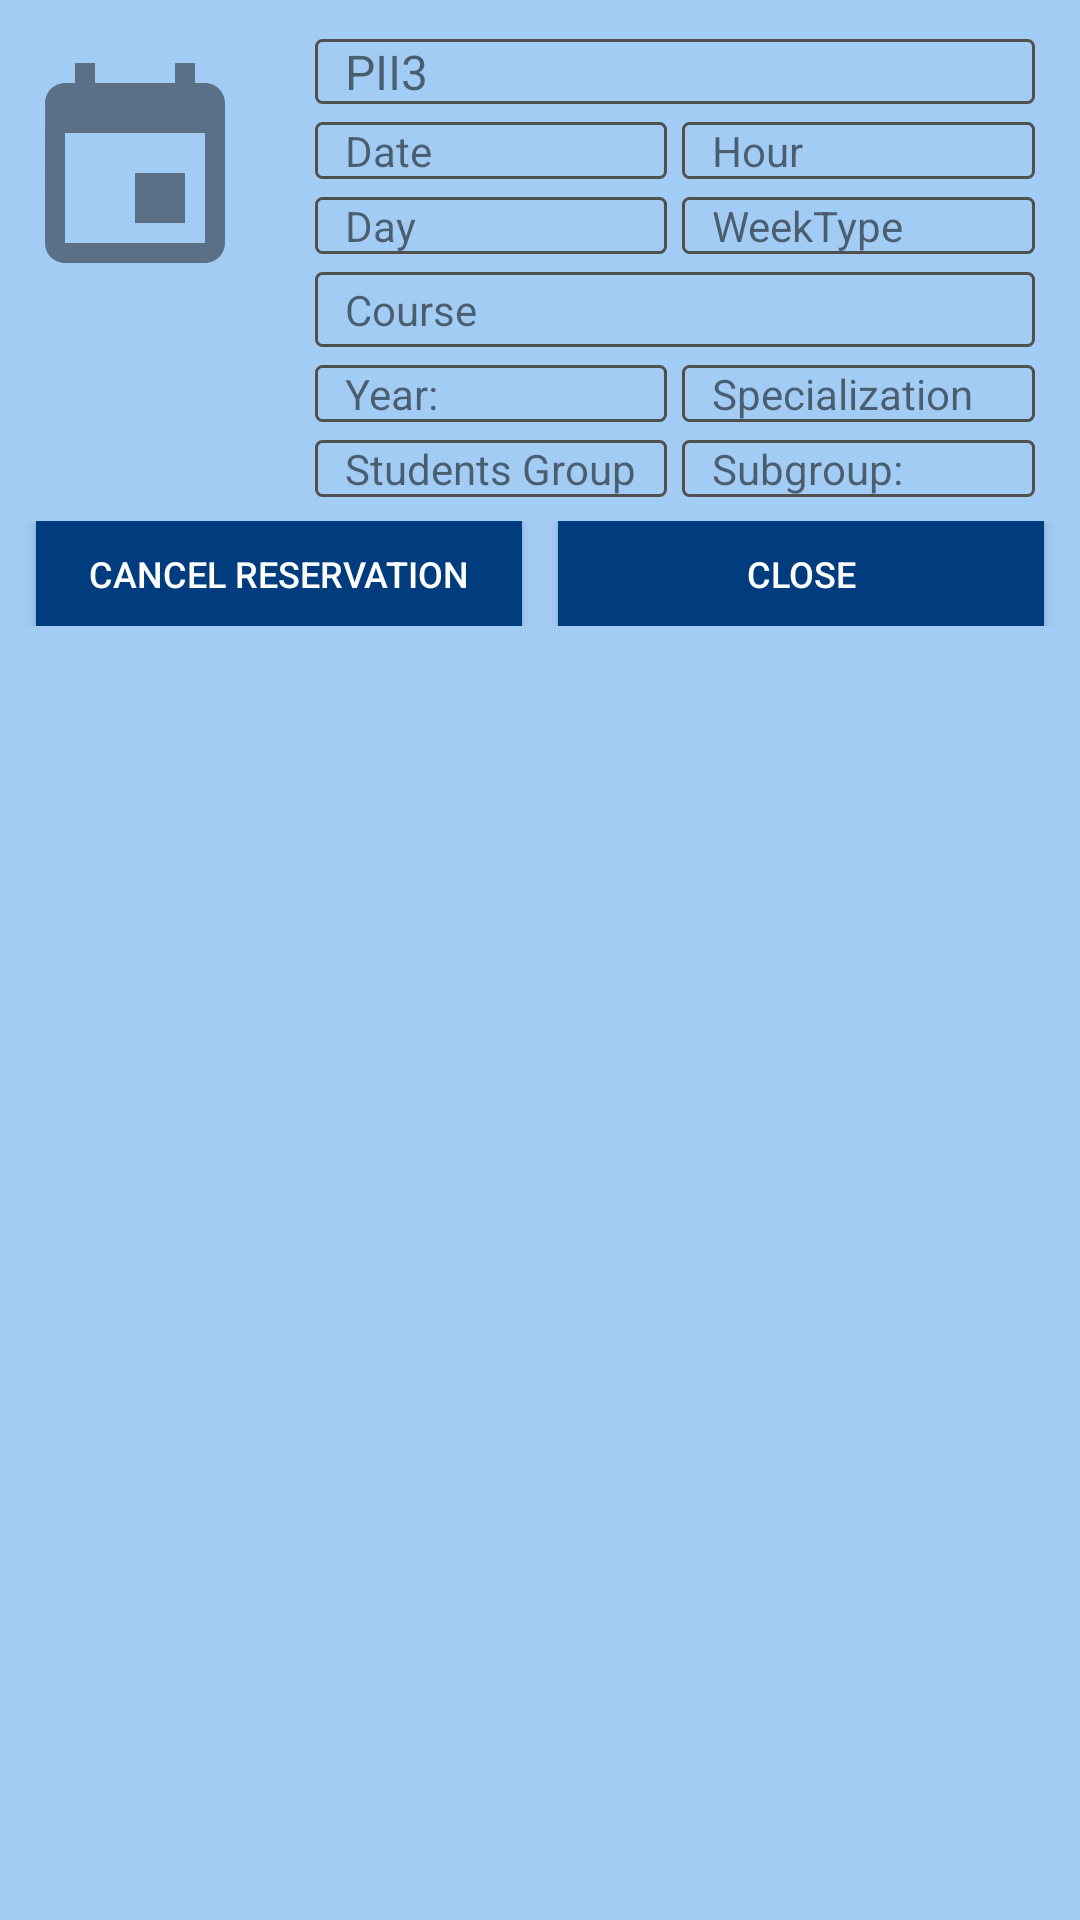

Named icons in this screenshot (1080*1920) and their bounding boxes, region(x1, y1, x2, y2):
event: region(45, 63, 225, 263)
